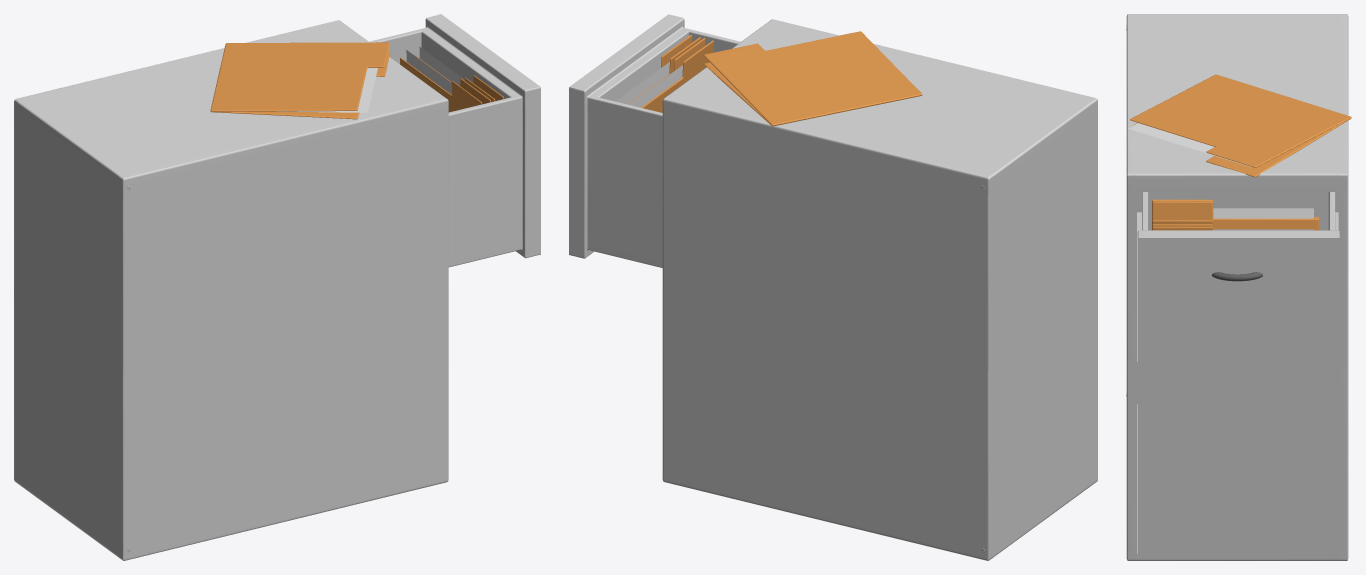
The model's file is officeDrawer-transformed.glb.
3 renders of one model, left to right at view 1: azimuth 30°, elevation 25°; view 2: azimuth 150°, elevation 25°; view 3: azimuth 270°, elevation 25°, orthographic.
Visible parts, largest first — view 1: Cube_0, Cube.001_1, Plane.003_9, Plane.001_7, Plane_6; view 2: Cube_0, Cube.001_1, Plane.003_9, Plane.001_7, Plane_6; view 3: Cube.001_1, Cube_0, Cube.003_2, Plane.003_9, Plane.002_8, Plane.001_7, Torus_3, Plane_6.
Part boxes in pixels (x1=…): Cube_0: x1=14, y1=20, x2=448, y2=560; Cube.001_1: x1=369, y1=14, x2=540, y2=267; Plane.003_9: x1=210, y1=42, x2=390, y2=119; Plane.001_7: x1=400, y1=50, x2=490, y2=112; Plane_6: x1=414, y1=46, x2=503, y2=101; Cube_0: x1=662, y1=19, x2=1097, y2=560; Cube.001_1: x1=569, y1=14, x2=740, y2=267; Plane.003_9: x1=703, y1=31, x2=922, y2=126; Plane.001_7: x1=629, y1=38, x2=713, y2=112; Plane_6: x1=616, y1=34, x2=700, y2=104; Cube.001_1: x1=1137, y1=192, x2=1339, y2=407; Cube_0: x1=1126, y1=14, x2=1348, y2=560; Cube.003_2: x1=1137, y1=407, x2=1339, y2=556; Plane.003_9: x1=1128, y1=74, x2=1351, y2=177; Plane.002_8: x1=1152, y1=199, x2=1319, y2=230; Plane.001_7: x1=1152, y1=220, x2=1313, y2=230; Torus_3: x1=1212, y1=272, x2=1262, y2=281; Plane_6: x1=1152, y1=226, x2=1213, y2=230.
Bounding box in the file's own units: 5.19 × 4.52 × 2.32.
